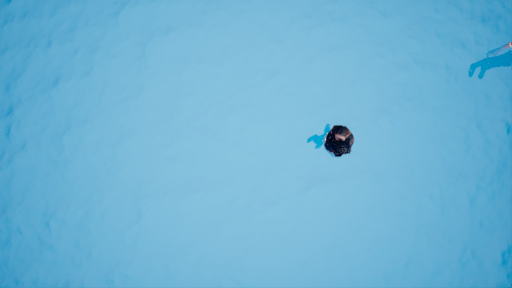person: (307, 123, 358, 159)
